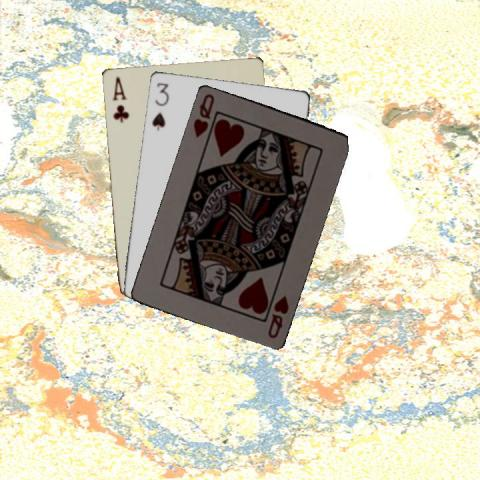3s: (148, 80, 170, 132)
Ac: (110, 73, 130, 123)
Qh: (190, 90, 216, 139), (264, 292, 291, 339)
